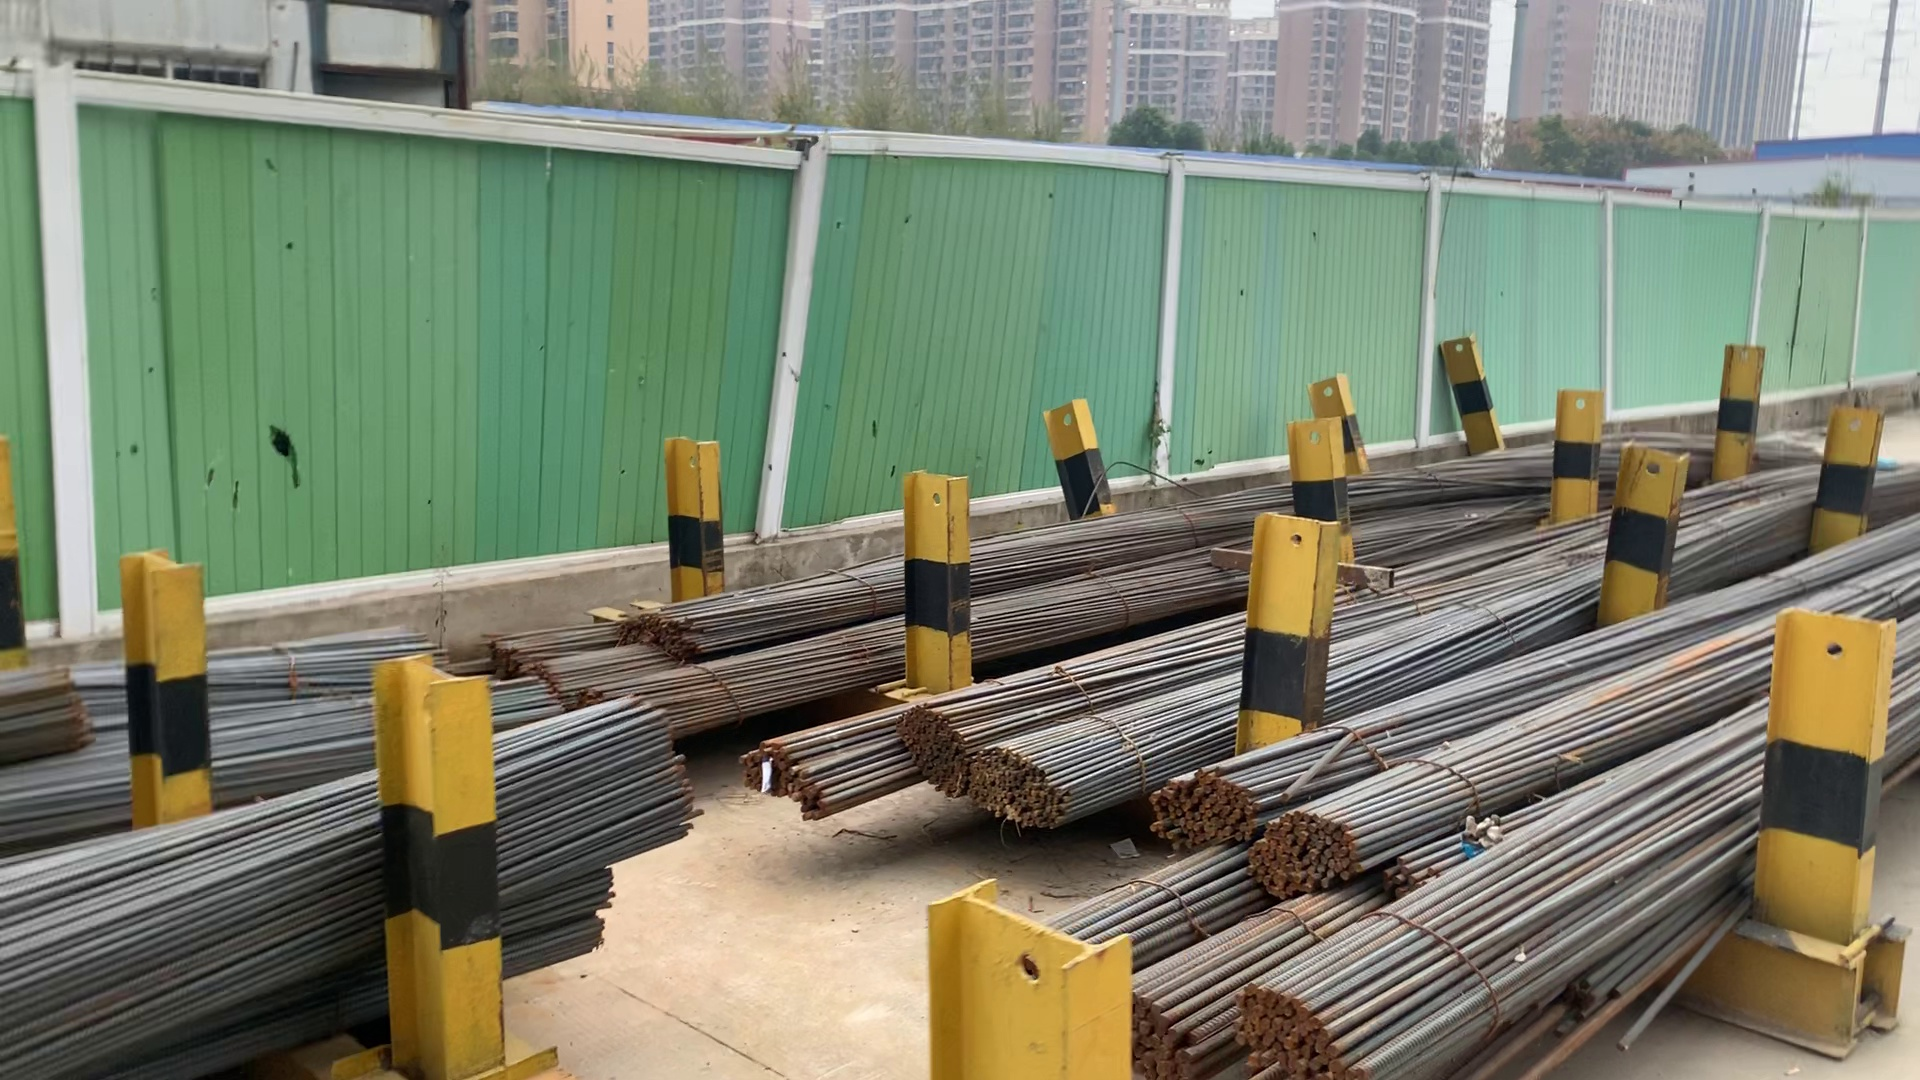rebar: (1236, 975, 1377, 1079), (1149, 770, 1251, 856), (1244, 823, 1369, 893), (973, 742, 1068, 833), (735, 735, 833, 822), (895, 700, 969, 800), (1135, 988, 1215, 1080), (612, 607, 702, 666)
